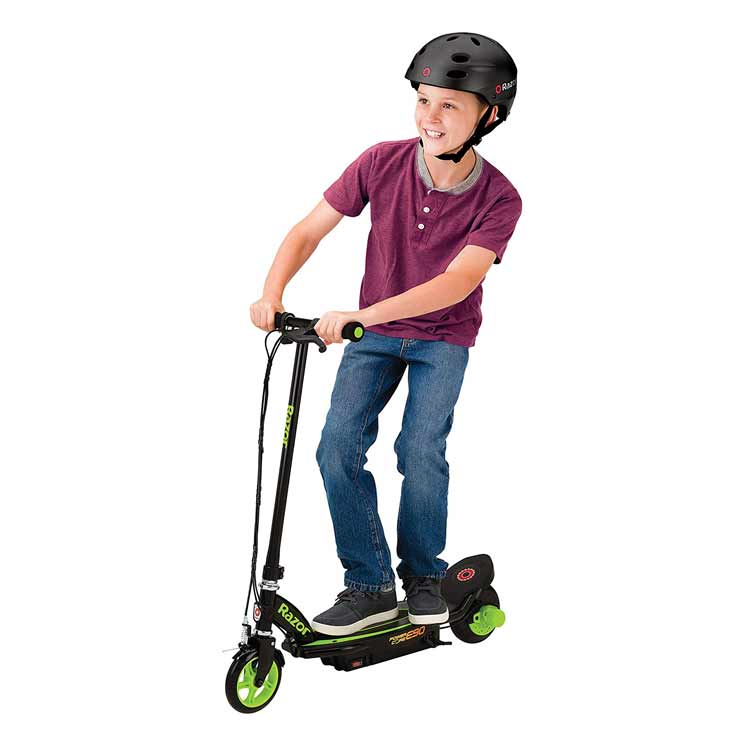scooter: (223, 310, 507, 716)
with helmet: (407, 33, 521, 164)
